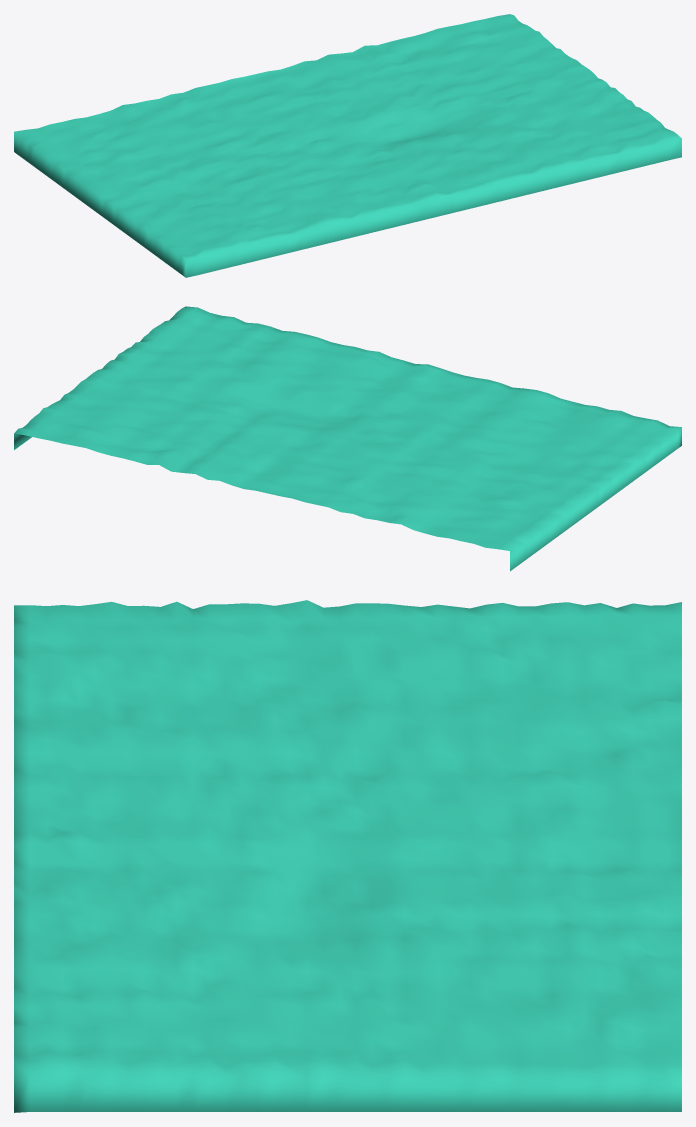
File: Water.fbx
3 renders of one model, top to bottom at view 1: azimuth 30°, elevation 25°; view 2: azimuth 150°, elevation 25°; view 3: azimuth 270°, elevation 25°, orthographic. The views are drawn at different scales.
Visible parts, largest first — view 1: Water; view 2: Water; view 3: Water.
Boxes of the visible parts, x1,y1,x2,y2 form: Water: (14, 14, 681, 277); Water: (14, 306, 681, 571); Water: (14, 600, 681, 1112).
Bounding box in the file's own units: 14175 × 635 × 8508.
